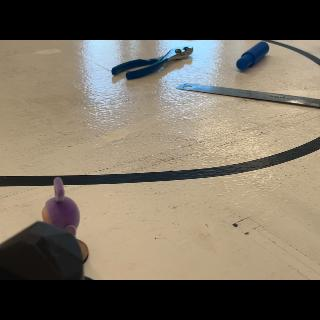teletubby: (42, 177, 80, 236)
